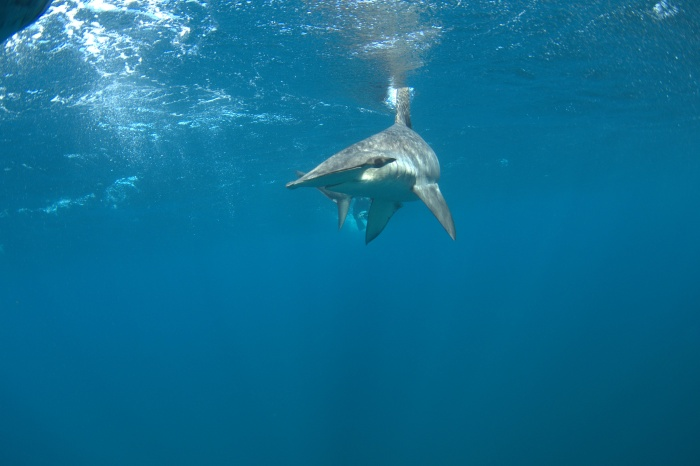Hammer: (234, 74, 473, 250)
